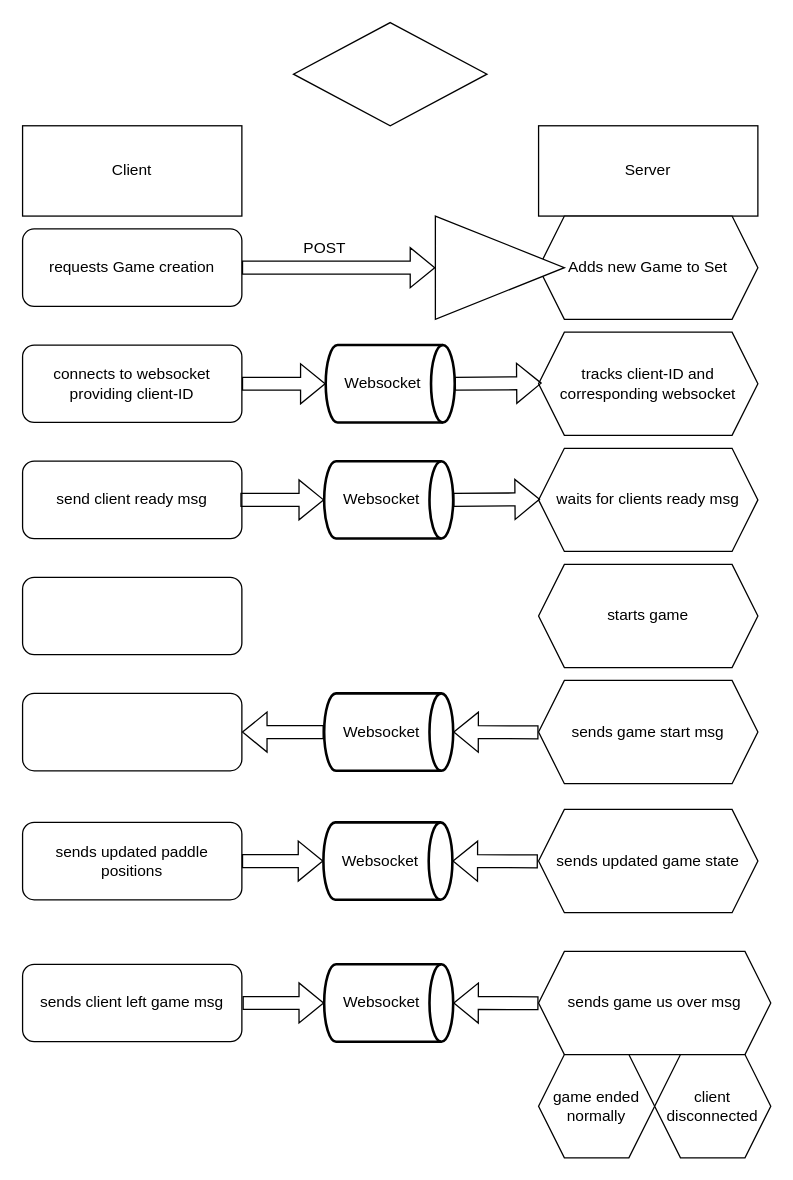
This 793x1180 diagram has some shape labels left out. The shapes that lost their labels are listed below. From the top down, each one's centre as x and y in pixels, then its label:
At [389,73]: "local-Game = 1 Client".
At [499,267]: "REST-API".
At [131,615]: "waits for server game start msg".
At [131,731]: "starts animation frame on server game start msg".
